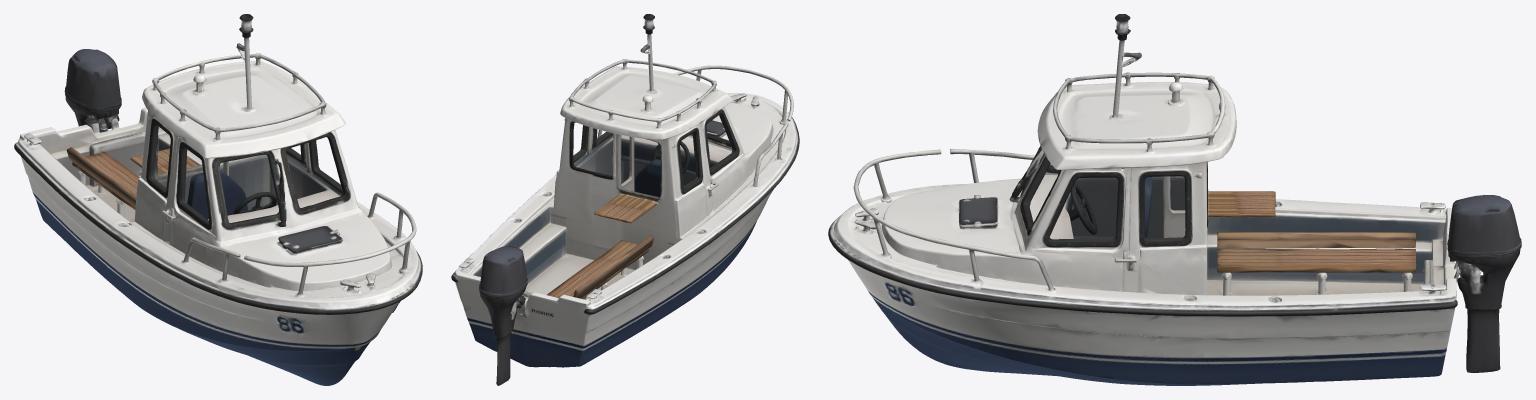
The model's file is boat.glb.
3 renders of one model, left to right at view 1: azimuth 30°, elevation 25°; view 2: azimuth 150°, elevation 25°; view 3: azimuth 270°, elevation 25°, orthographic. The views are drawn at different scales.
Visible parts, largest first — view 1: tripo_node_57023f49-cb23-4433-a17d-ac047538ea20; view 2: tripo_node_57023f49-cb23-4433-a17d-ac047538ea20; view 3: tripo_node_57023f49-cb23-4433-a17d-ac047538ea20.
Part boxes in pixels (x1=…): tripo_node_57023f49-cb23-4433-a17d-ac047538ea20: x1=14, y1=14, x2=422, y2=385; tripo_node_57023f49-cb23-4433-a17d-ac047538ea20: x1=451, y1=14, x2=799, y2=385; tripo_node_57023f49-cb23-4433-a17d-ac047538ea20: x1=828, y1=14, x2=1521, y2=385.
Size of the model in its own units: 2.09 by 3 by 5.27.
Materials: 1 (1 with a texture image).
